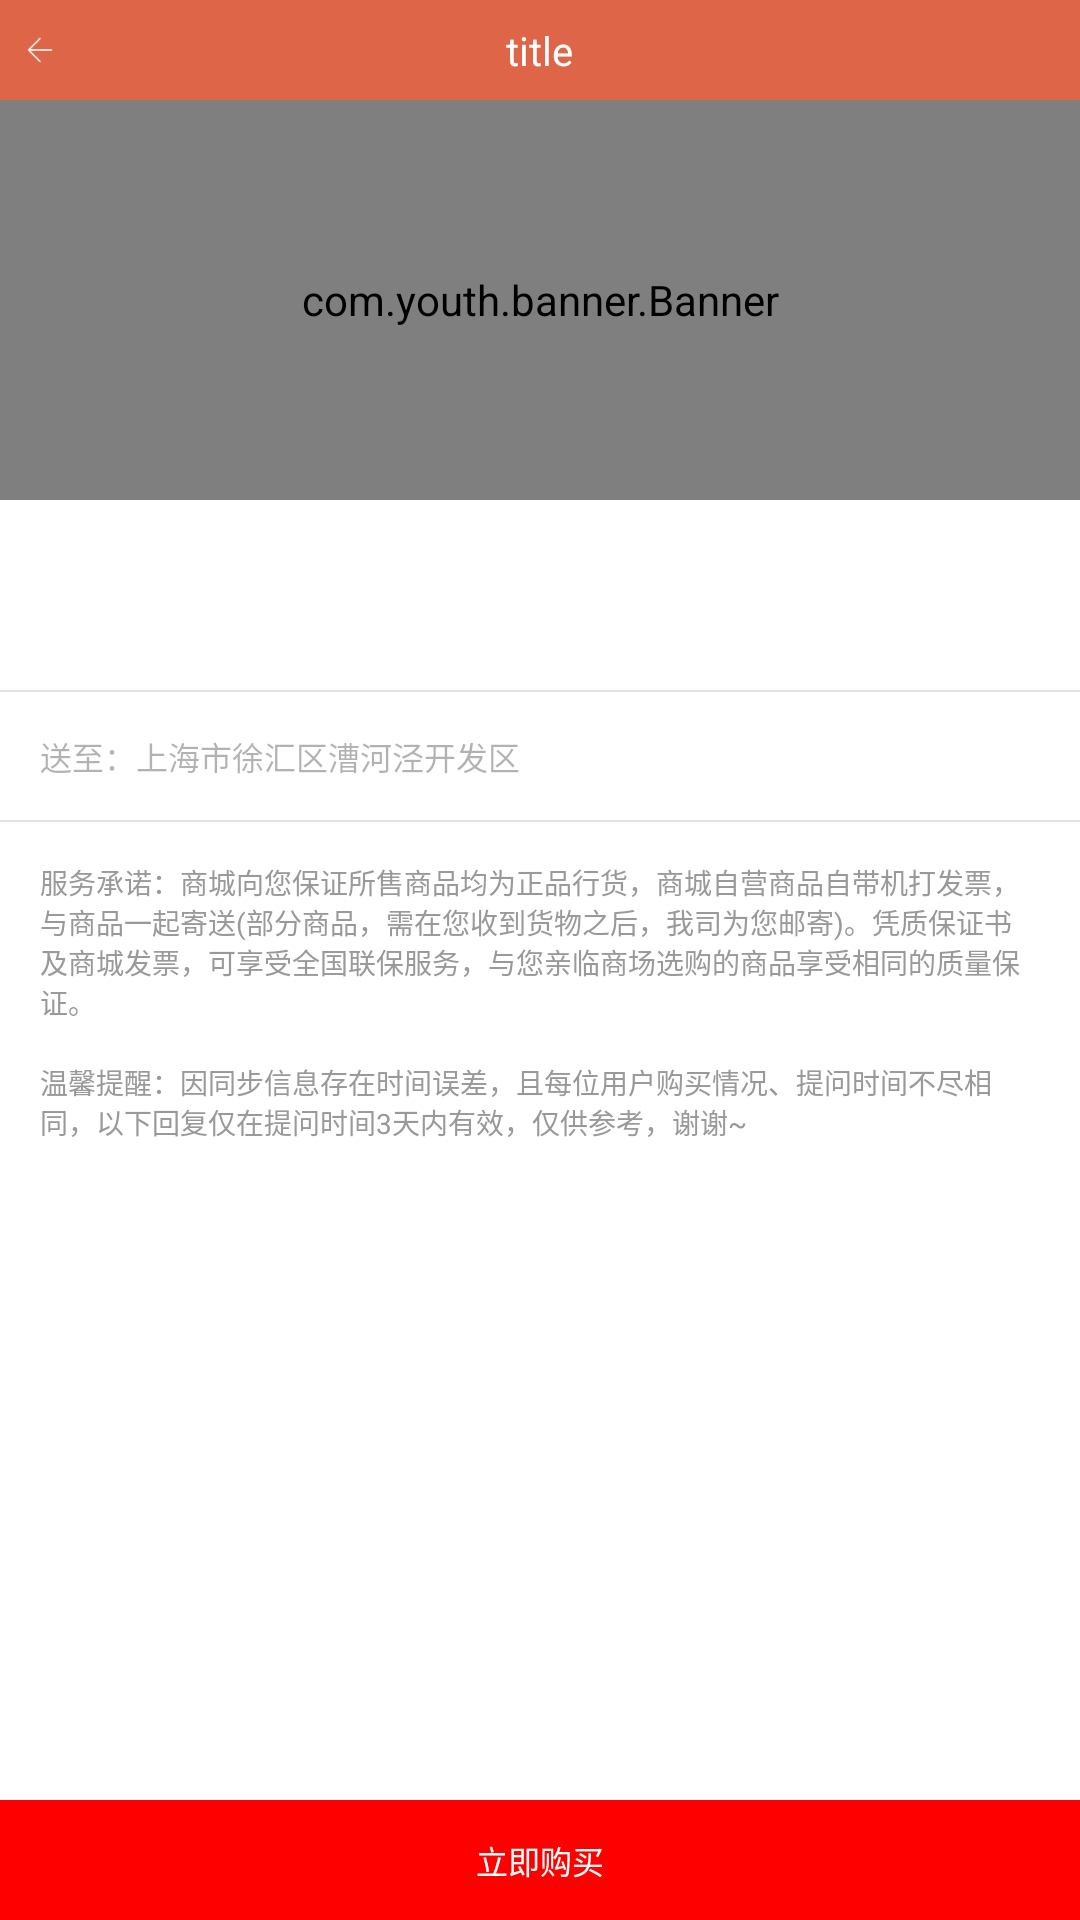

Locate icon controls on the screen. Image size 1080*1920, boxes as {"x1": x1, "y1": y1, "x2": x2, "y2": y2}.
back: {"x1": 27, "y1": 37, "x2": 52, "y2": 63}
